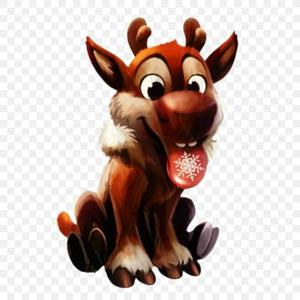sven: (92, 10, 223, 62)
